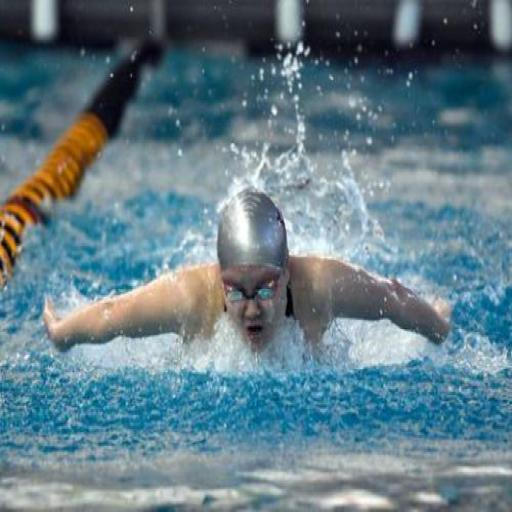swimming: (39, 184, 453, 376)
